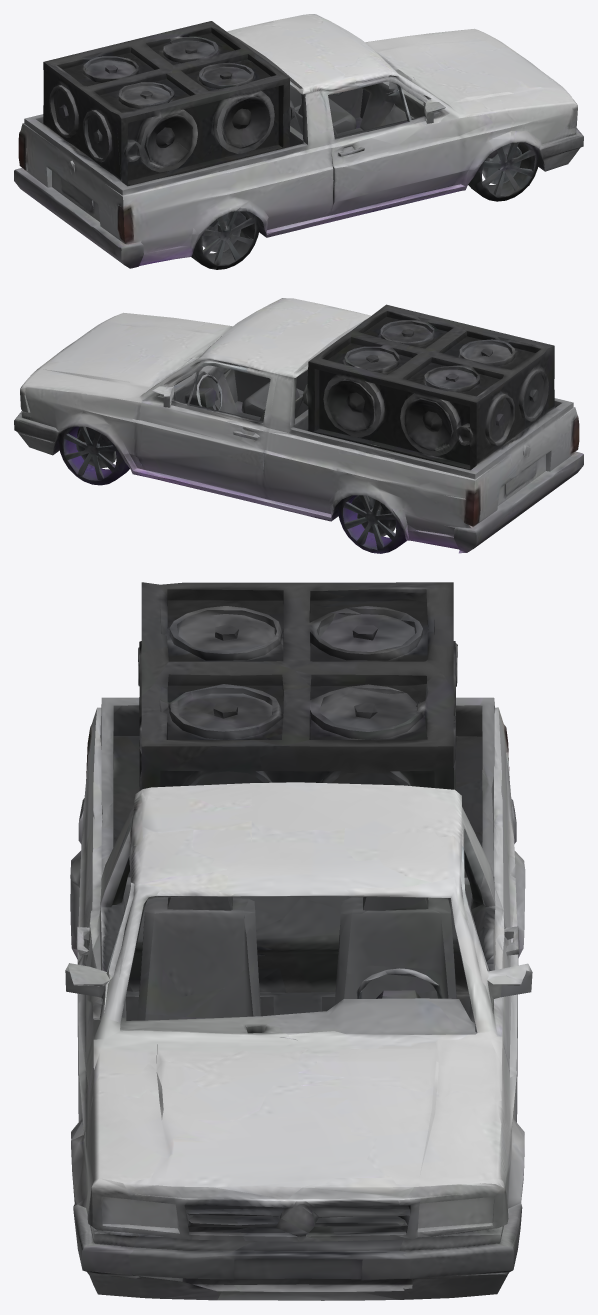
The model's file is saveiro_som.glb.
3 views of the same model, one above another, from view 1: azimuth 30°, elevation 25°; view 2: azimuth 150°, elevation 25°; view 3: azimuth 270°, elevation 25° (orthographic). The views are drawn at different scales.
Parts seen in each view (by area): view 1: tripo_node_76c7cca3-98a5-4fe4-a19f-85e13b58f24e; view 2: tripo_node_76c7cca3-98a5-4fe4-a19f-85e13b58f24e; view 3: tripo_node_76c7cca3-98a5-4fe4-a19f-85e13b58f24e.
Boxes of the visible parts, box(x1,y1,x2,y2) form: tripo_node_76c7cca3-98a5-4fe4-a19f-85e13b58f24e: box(14, 14, 583, 269); tripo_node_76c7cca3-98a5-4fe4-a19f-85e13b58f24e: box(14, 298, 583, 553); tripo_node_76c7cca3-98a5-4fe4-a19f-85e13b58f24e: box(65, 582, 532, 1300).
Bounding box in the file's own units: 1 × 0.3327 × 0.4302.
Materials: 1 (1 with a texture image).
